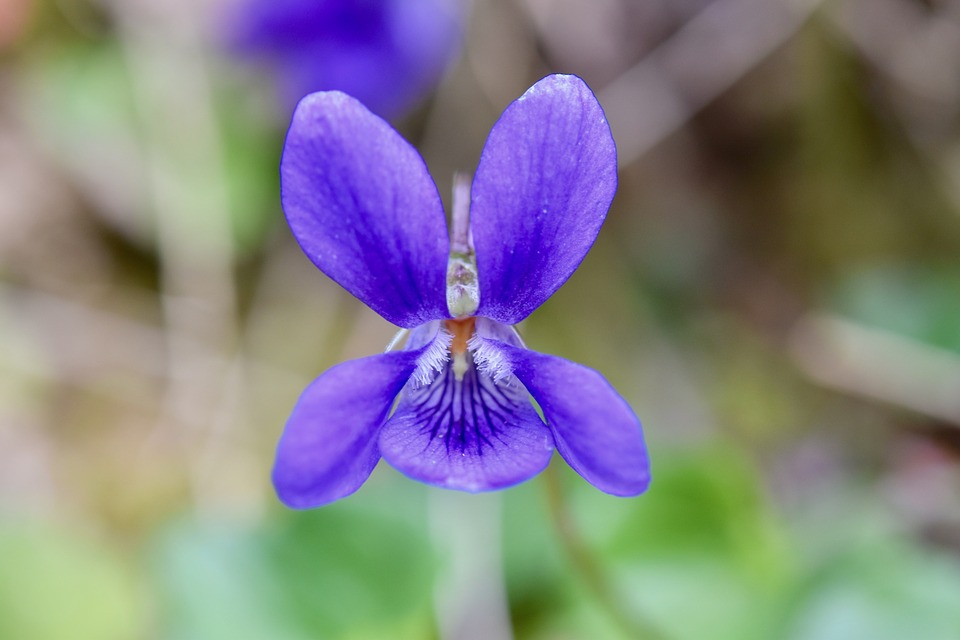violet: (260, 87, 663, 518)
